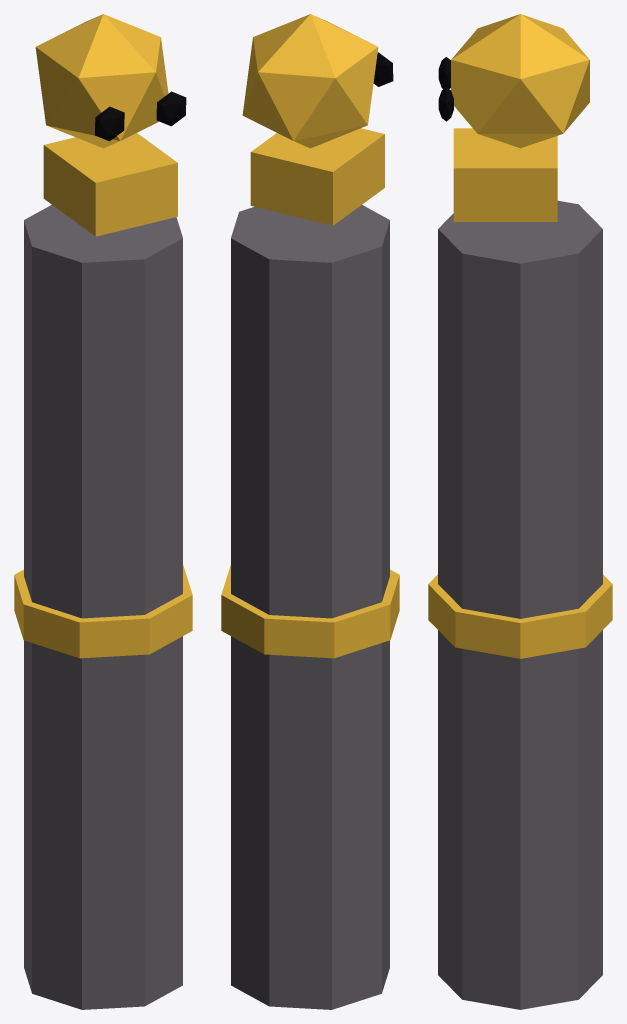
Rendered from Prop_OR_SkullTotem_04.glb.
The picture shows the model from 3 angles, left to right: view 1: azimuth 30°, elevation 25°; view 2: azimuth 150°, elevation 25°; view 3: azimuth 270°, elevation 25°; orthographic projection.
Visible parts, largest first — view 1: Prop_OR_SkullTotem_04; view 2: Prop_OR_SkullTotem_04; view 3: Prop_OR_SkullTotem_04.
Boxes of the visible parts, x1,y1,x2,y2 form: Prop_OR_SkullTotem_04: (14, 14, 192, 1009); Prop_OR_SkullTotem_04: (221, 14, 399, 1009); Prop_OR_SkullTotem_04: (428, 14, 612, 1009).
Size of the model in its own units: 0.56 by 3.22 by 0.56.
